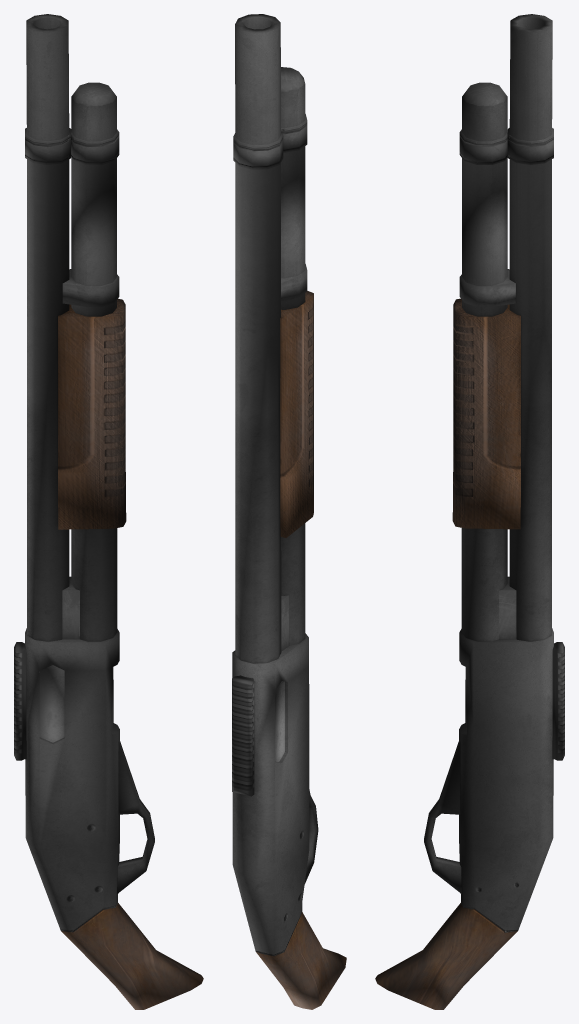
File: TLOG_Pumpshotgun2.fbx
3 views of the same model, side by side, from view 1: azimuth 90°, elevation 25°; view 2: azimuth 150°, elevation 25°; view 3: azimuth 270°, elevation 25° (orthographic). The views are drawn at different scales.
Visible parts, largest first — view 1: Cylinder.001; view 2: Cylinder.001; view 3: Cylinder.001.
Part boxes in pixels (box(x1,y1,x2,y2)): Cylinder.001: box(14, 14, 203, 1009); Cylinder.001: box(232, 14, 346, 1009); Cylinder.001: box(375, 14, 564, 1009).
Bounding box in the file's own units: 0.0195 × 0.4213 × 0.0737.
